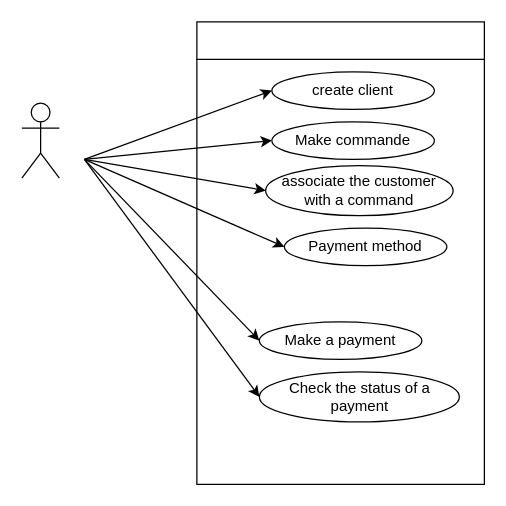
This 506x506 diagram has some shape labels left out. Each missing label, with the centre of its shape:
System: the point at 340,40
User: the point at 40,140
